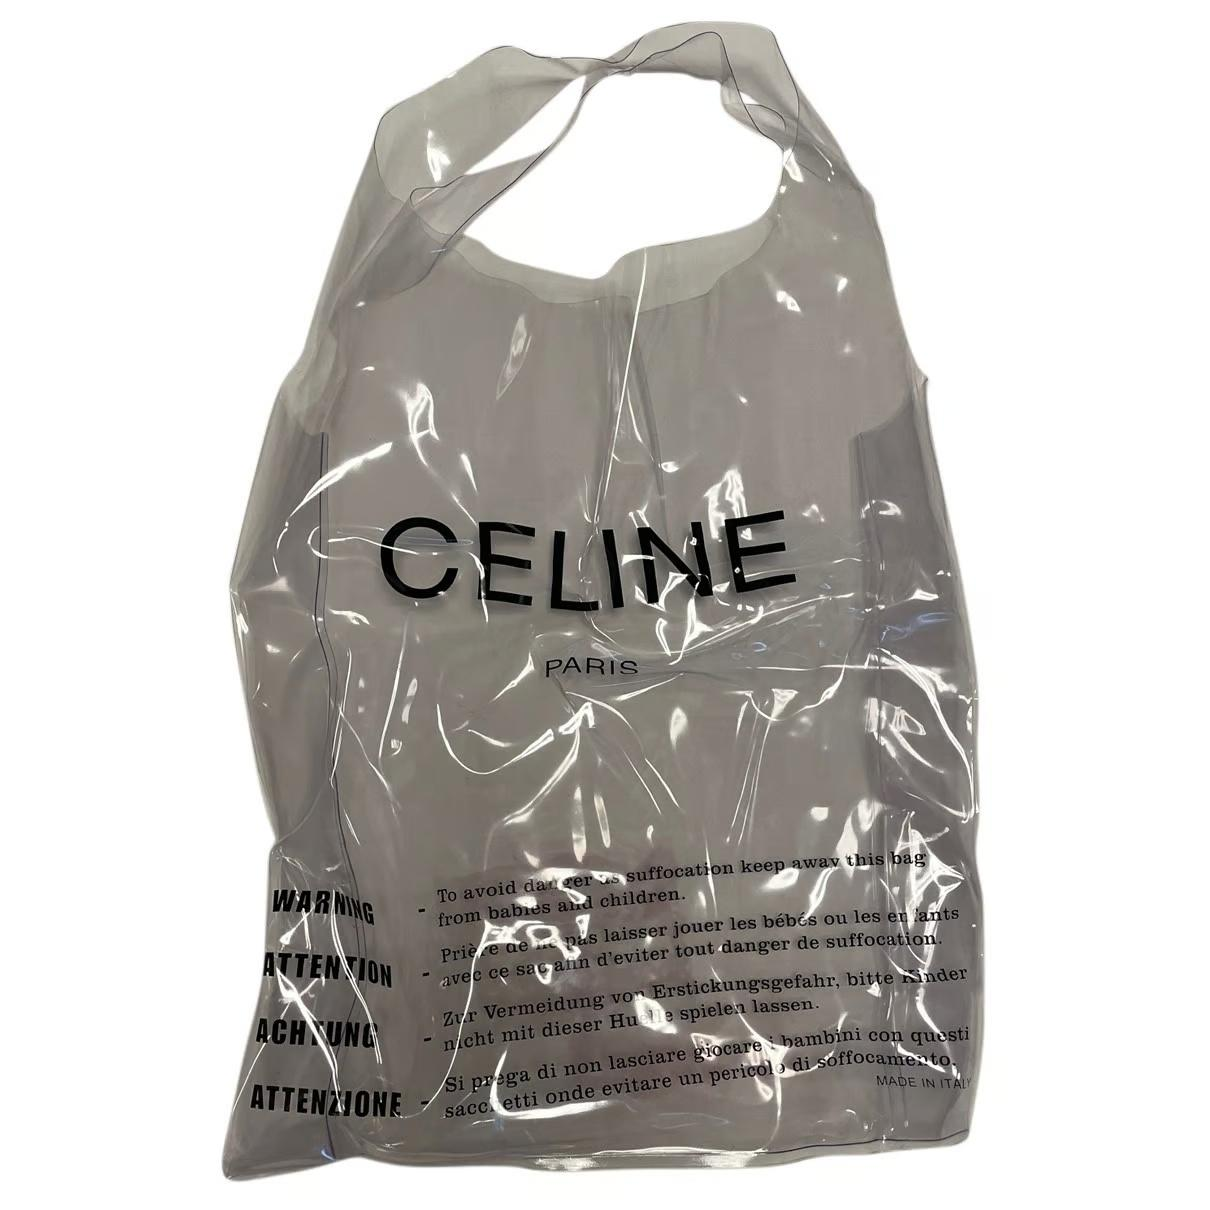CELINE: (380, 507, 798, 612)
